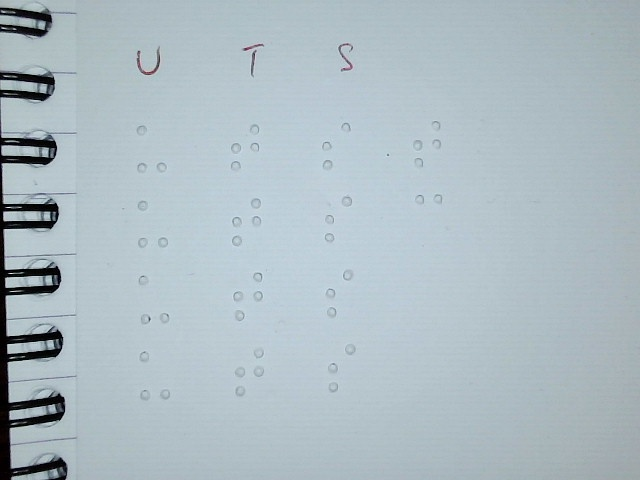S: (320, 119, 353, 170), (321, 193, 354, 244), (323, 267, 356, 318), (325, 341, 358, 392)
T: (229, 122, 262, 173), (230, 196, 263, 247), (232, 270, 265, 321), (233, 346, 266, 397)
U: (135, 122, 169, 175), (136, 197, 170, 250), (138, 272, 172, 325), (138, 348, 172, 401)
